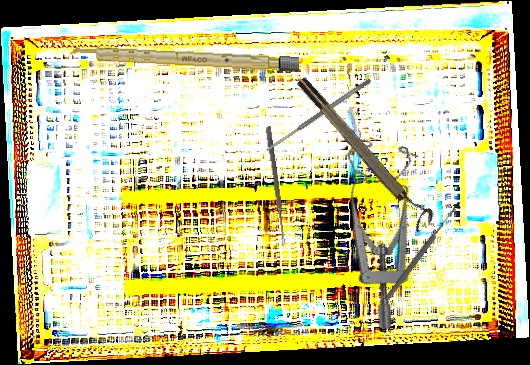Fixation Ring: (294, 69, 437, 233)
Scalpel Handle: (69, 45, 300, 72)
Spatula Surgical: (265, 77, 372, 153)
Speculum: (293, 128, 454, 332)
Surgical Spoon: (383, 206, 458, 303), (264, 126, 288, 246)
